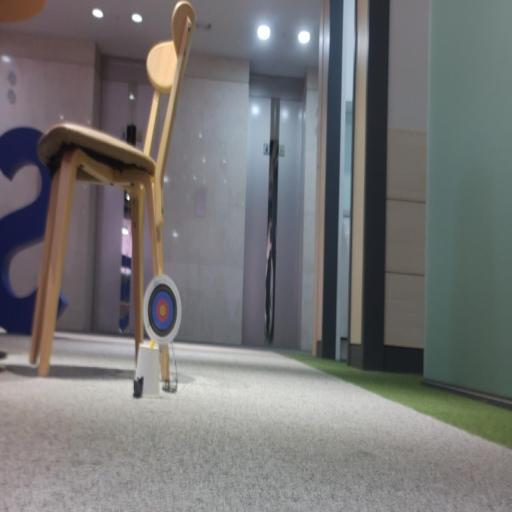target: (143, 274, 181, 344)
